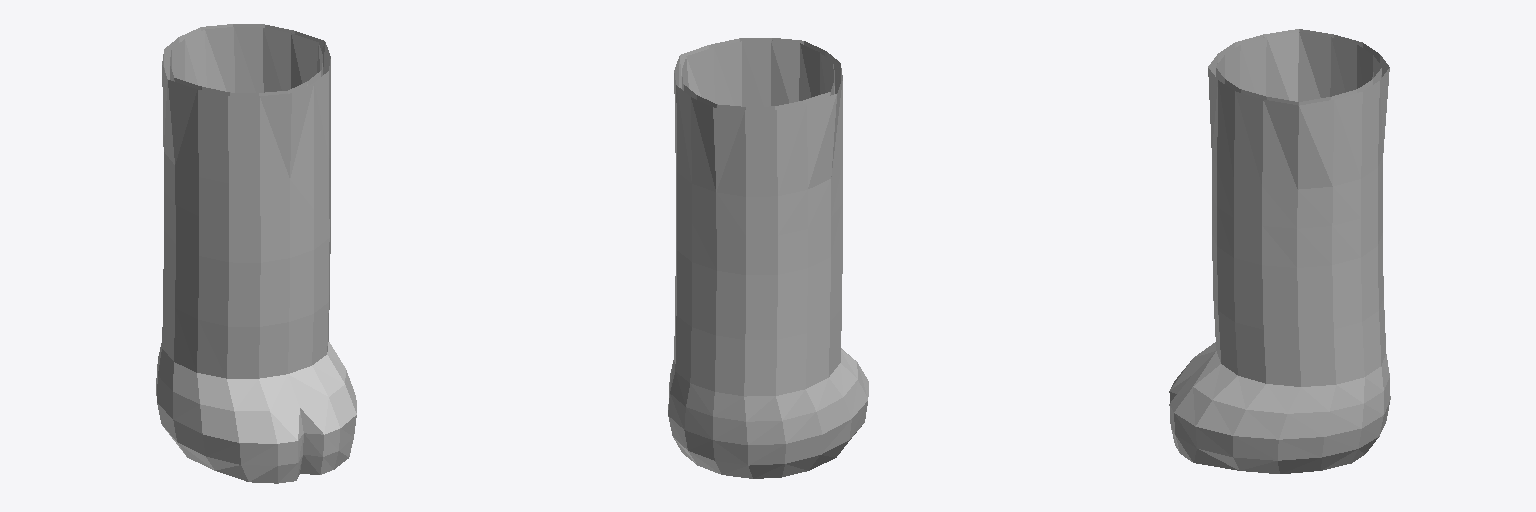
Rendered from pierna izq cordero.obj.
The picture shows the model from 3 angles: view 1: azimuth 30°, elevation 25°; view 2: azimuth 150°, elevation 25°; view 3: azimuth 270°, elevation 25°; orthographic projection.
Visible parts, largest first — view 1: Object004; view 2: Object004; view 3: Object004.
Part boxes in pixels (left/top/right/bottom): Object004: left=156, top=24, right=356, bottom=483; Object004: left=668, top=38, right=868, bottom=478; Object004: left=1169, top=29, right=1390, bottom=473.
Bounding box in the file's own units: 3.95 × 8.57 × 4.54.